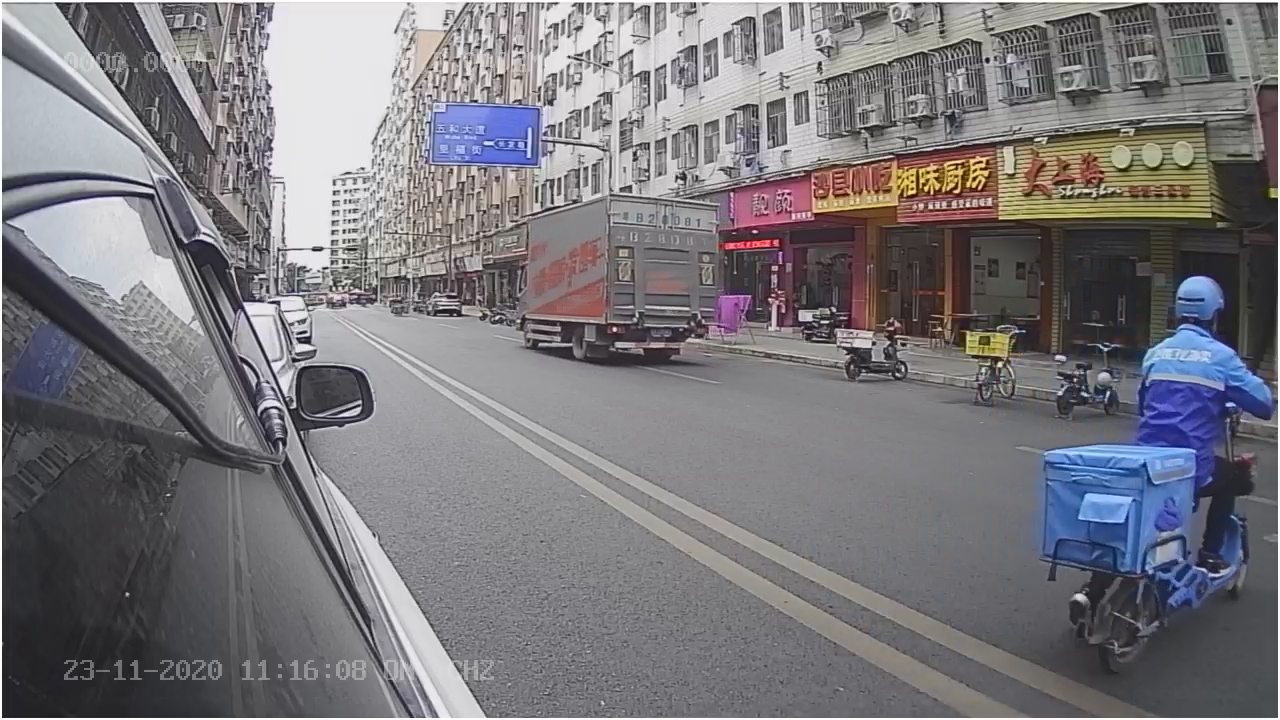person: (1126, 271, 1275, 425)
